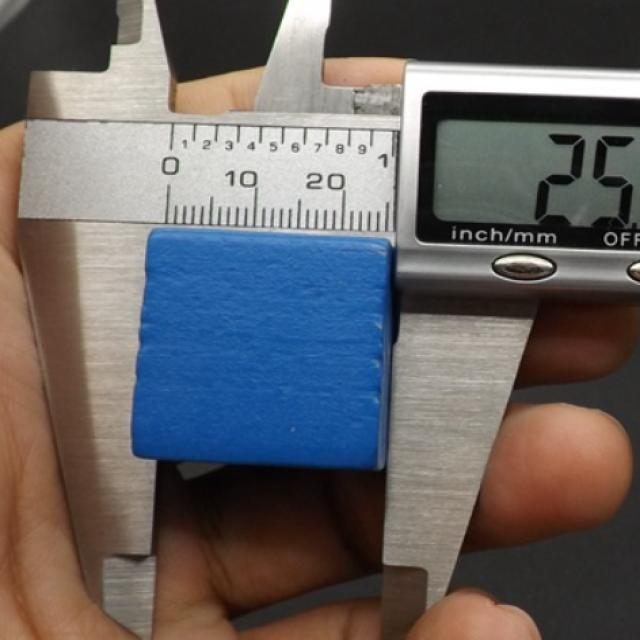bluecube: (131, 228, 392, 473)
